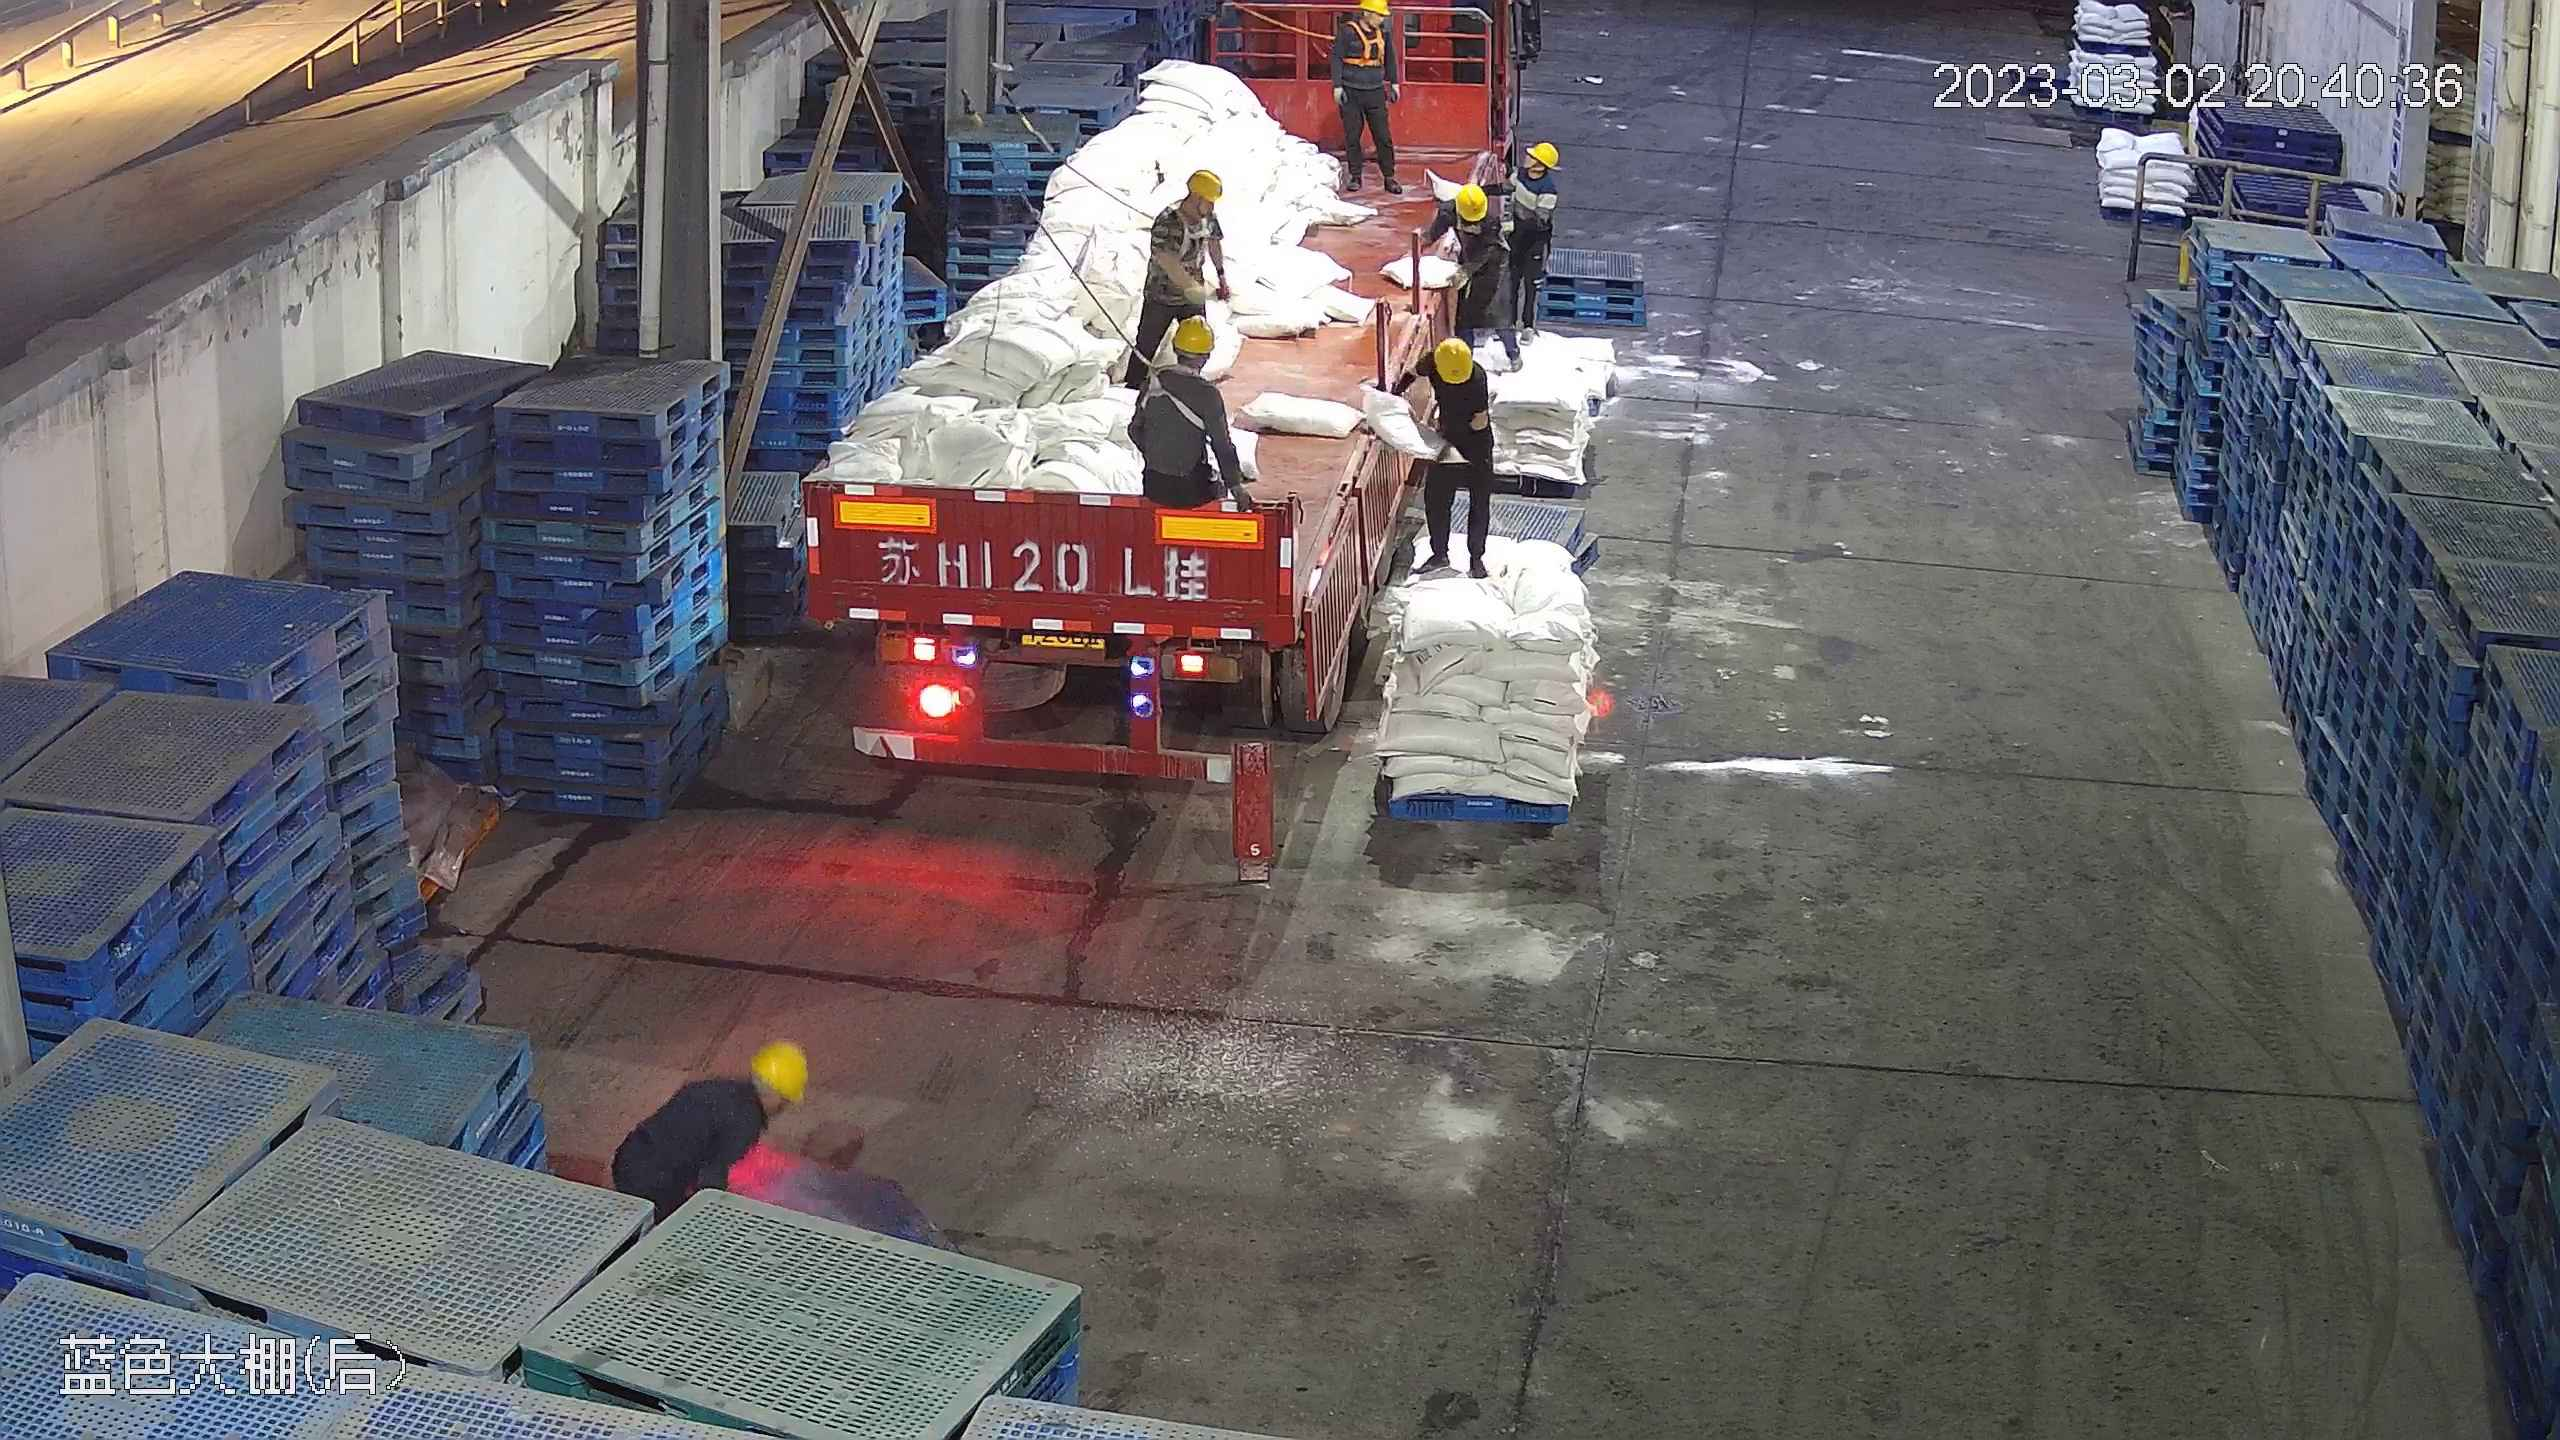belt: (1131, 345, 1231, 466), (1121, 353, 1190, 415), (1154, 207, 1210, 276), (1345, 19, 1389, 64), (1452, 210, 1483, 235)
head: (679, 1036, 816, 1148), (1136, 314, 1225, 405), (1412, 335, 1491, 407), (1152, 165, 1228, 237), (1430, 178, 1505, 242), (1497, 139, 1558, 206), (1335, 1, 1397, 50)
helmet: (747, 1035, 814, 1105), (1427, 334, 1475, 385), (1165, 312, 1218, 356), (1448, 181, 1493, 225), (1182, 165, 1227, 202), (1528, 140, 1559, 167), (1360, 1, 1390, 17)
people: (1126, 316, 1249, 534), (1398, 334, 1497, 585), (1123, 166, 1232, 389), (1428, 172, 1521, 352), (1325, 1, 1406, 196), (1491, 140, 1561, 348)
truck: (786, 15, 1493, 779)
